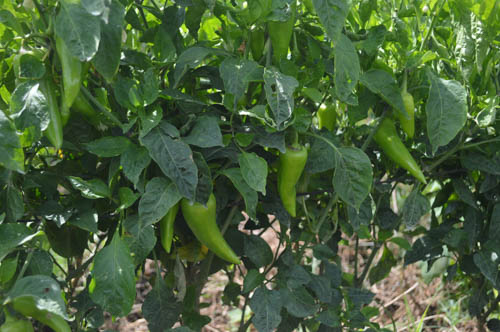ChiliPepper: (179, 195, 237, 268), (378, 127, 425, 180), (275, 146, 309, 217), (57, 41, 83, 108), (37, 89, 63, 149), (397, 96, 424, 137), (151, 204, 173, 254)
